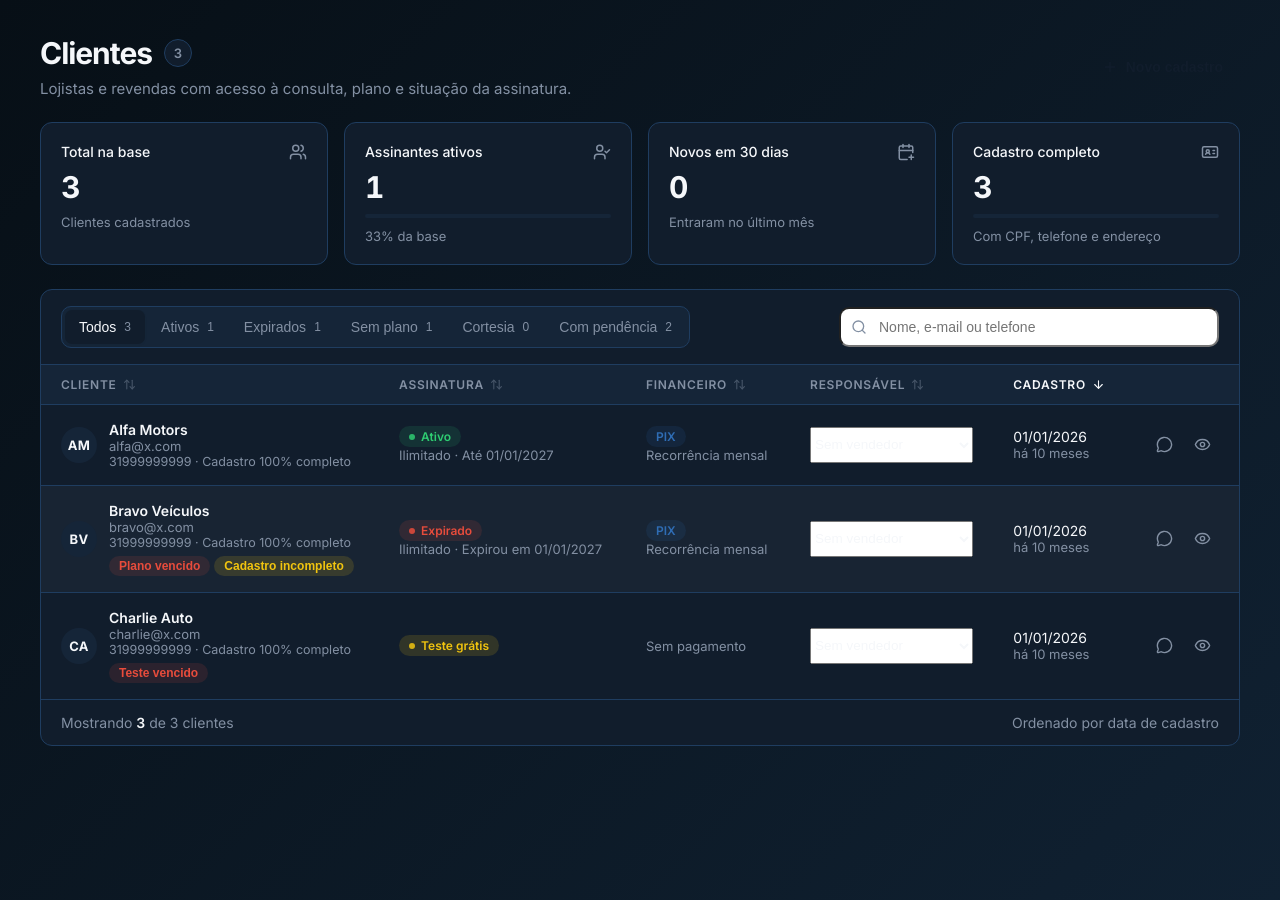
Test: CRM: pendências na lista › abrir um cliente abre a ficha
The image size is (1280, 900).
Expected: the text "Alfa Motors" is shown, [109,420,188,438]
Click the button named "Ver detalhes" in the row of "Alfa Motors". click: click(1202, 444)
box: [1185,428,1219,462]
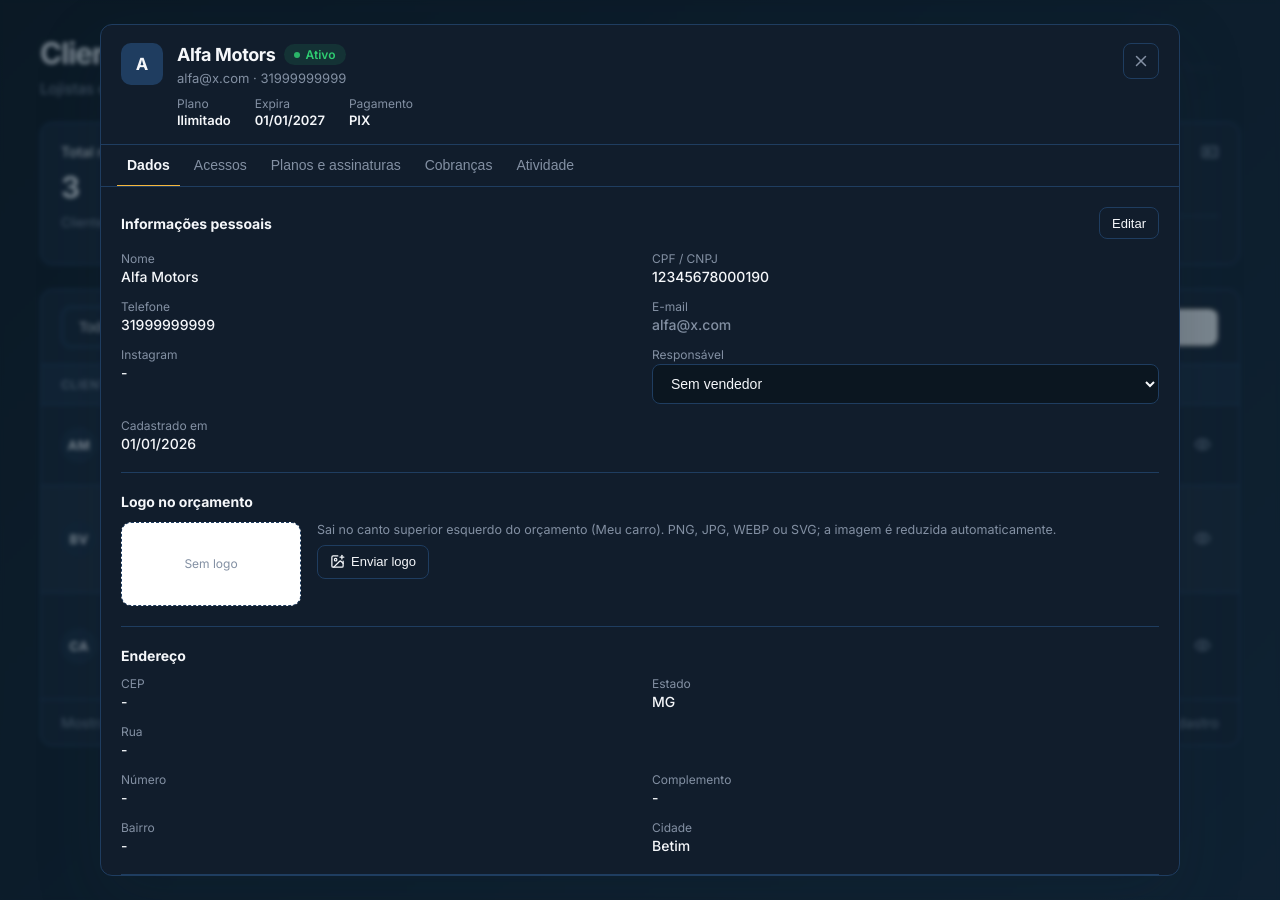
Expected: the heading "Alfa Motors" is shown, [177,43,276,66]
Expected: the tab "Planos e assinaturas" is shown, [261,145,411,186]
